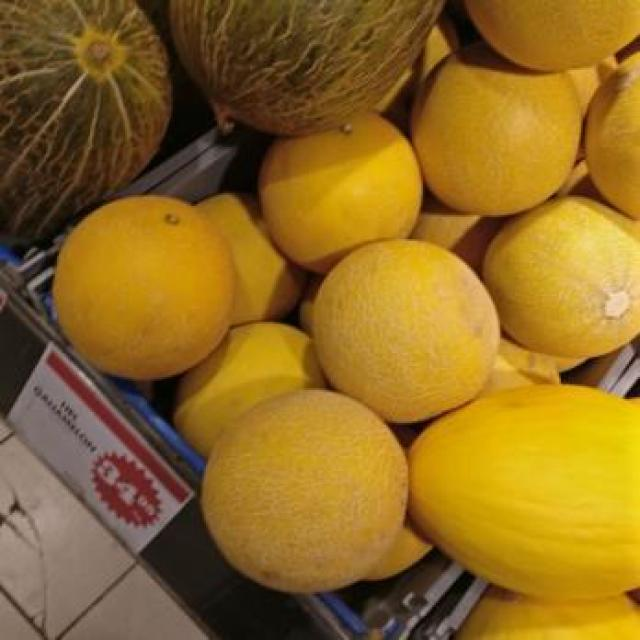Cantaloupe: (197, 388, 410, 601), (302, 235, 502, 414), (50, 197, 237, 373), (408, 46, 585, 224), (248, 97, 425, 265), (478, 193, 638, 359)
